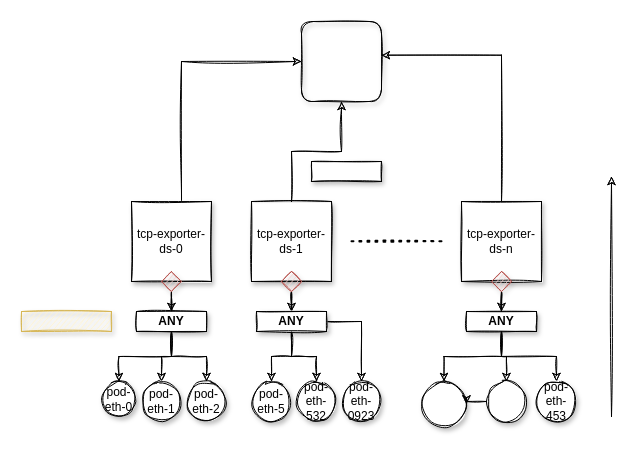
This 637x451 diagram has some shape labels left out. Here are the shapes that lost their labels. From the top down, the centre of each, then its label:
point (342, 62): Service Monitor
point (347, 172): /metrics
point (67, 322): default_mode:
point (444, 405): pod-eth-123
point (507, 402): pod-eth-531
